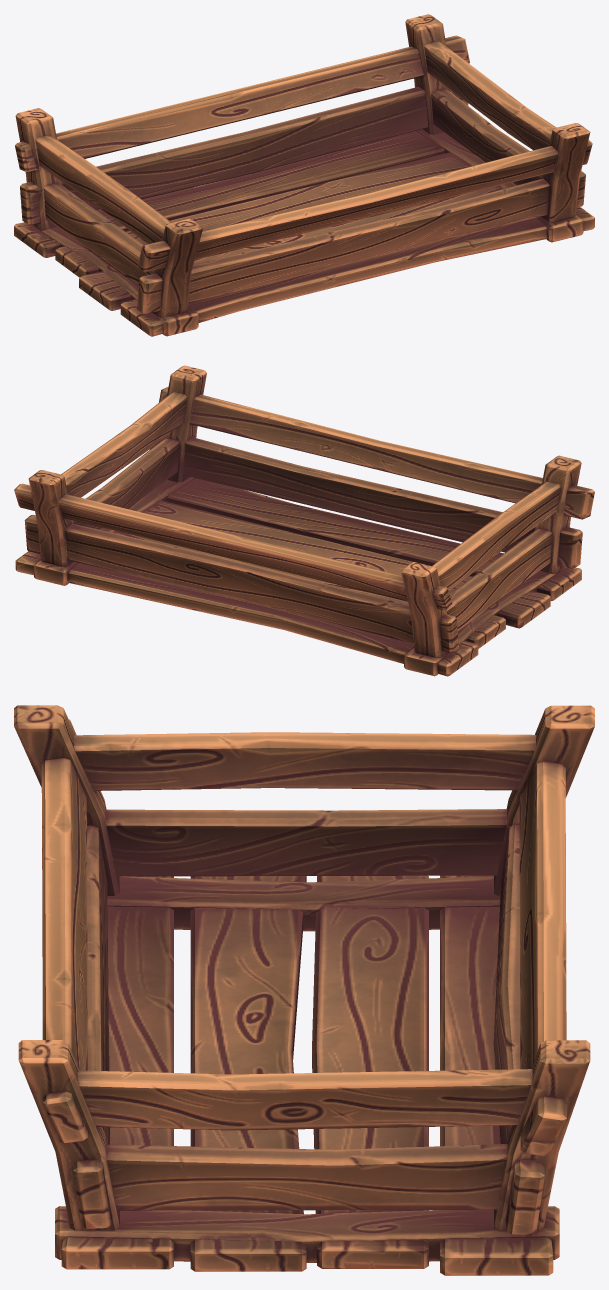
The model's file is kasa_uzum.fbx.
3 renders of one model, top to bottom at view 1: azimuth 30°, elevation 25°; view 2: azimuth 150°, elevation 25°; view 3: azimuth 270°, elevation 25°, orthographic. The views are drawn at different scales.
Parts seen in each view (by area): view 1: kasa_uzum; view 2: kasa_uzum; view 3: kasa_uzum.
Part boxes in pixels (box(x1,y1,x2,y2)): kasa_uzum: box(14, 14, 594, 336); kasa_uzum: box(14, 365, 594, 676); kasa_uzum: box(14, 705, 594, 1275).
Bounding box in the file's own units: 125 × 29.26 × 77.36.
